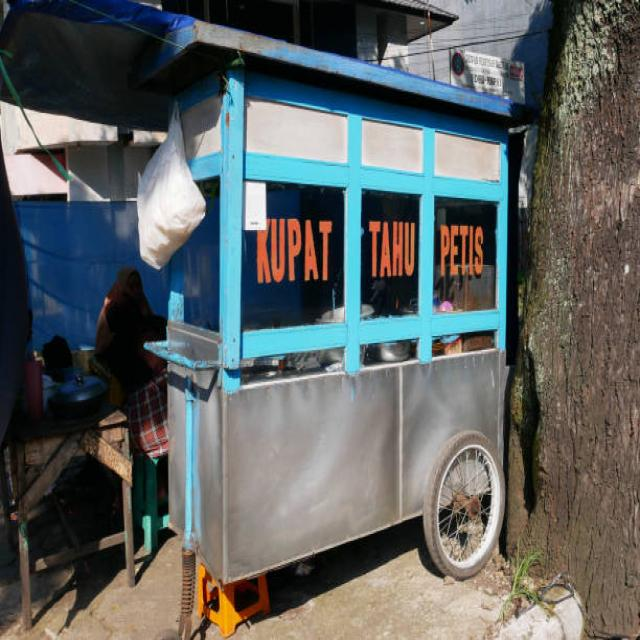Emperan: (0, 0, 532, 620)
